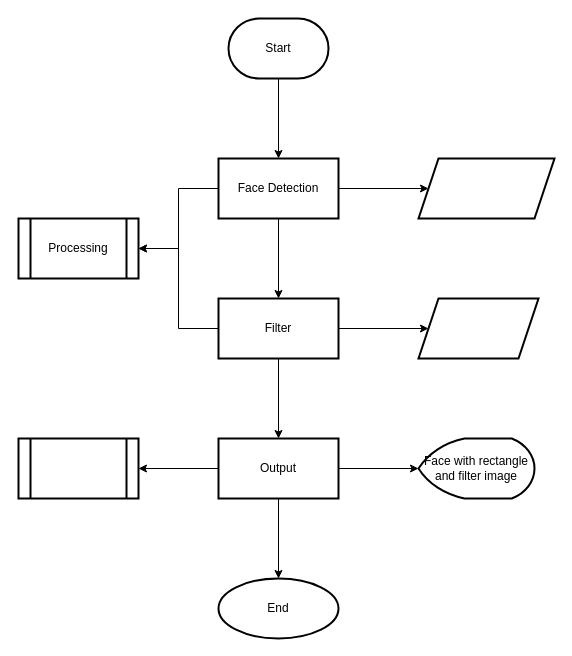
The diagram is 572 pixels wide and 656 high, and some of its shapes have lost their labels. The box of each missing label's shape, as (x1, y1, x2, y2) in pixels:
Face and Eyes using Haarcascade: (417, 157, 555, 219)
Post-Processing: (17, 437, 139, 499)
Simple filter .png: (417, 297, 539, 359)
